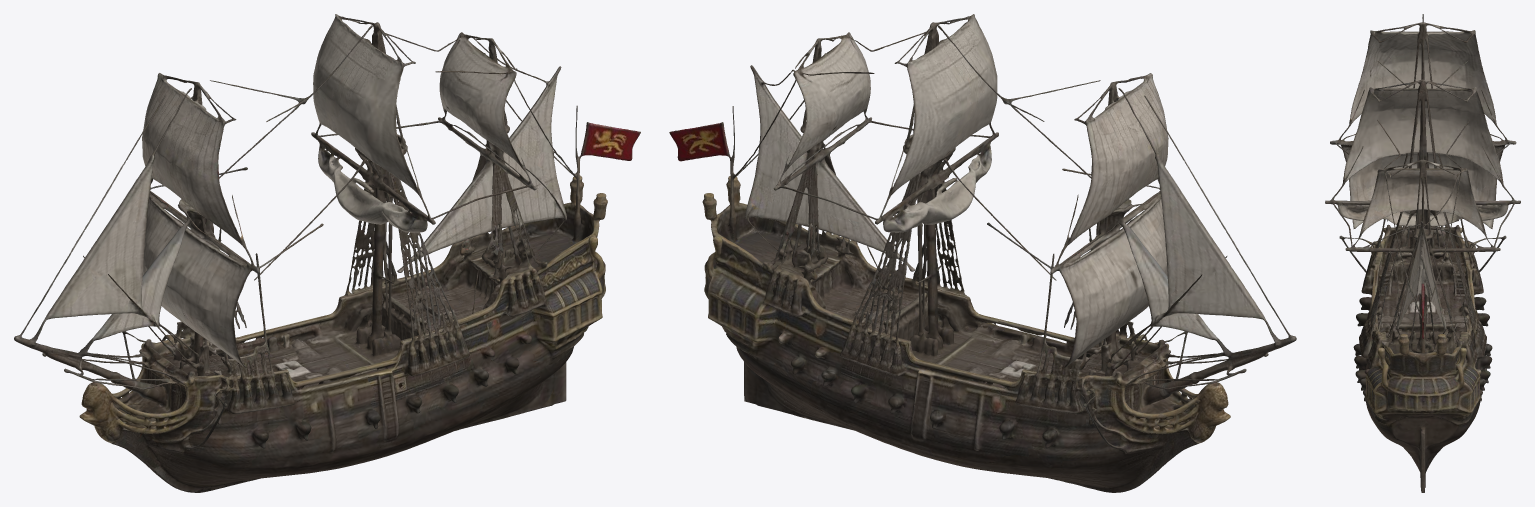
The model's file is War Galleon.glb.
3 views of the same model, side by side, from view 1: azimuth 30°, elevation 25°; view 2: azimuth 150°, elevation 25°; view 3: azimuth 270°, elevation 25° (orthographic). The views are drawn at different scales.
Bounding box in the file's own units: 1.9 × 1.24 × 0.6413.
Materials: 1 (1 with a texture image).
